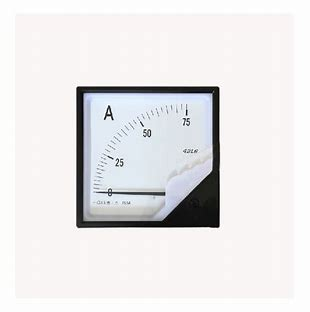pointer: (79, 89, 217, 223)
